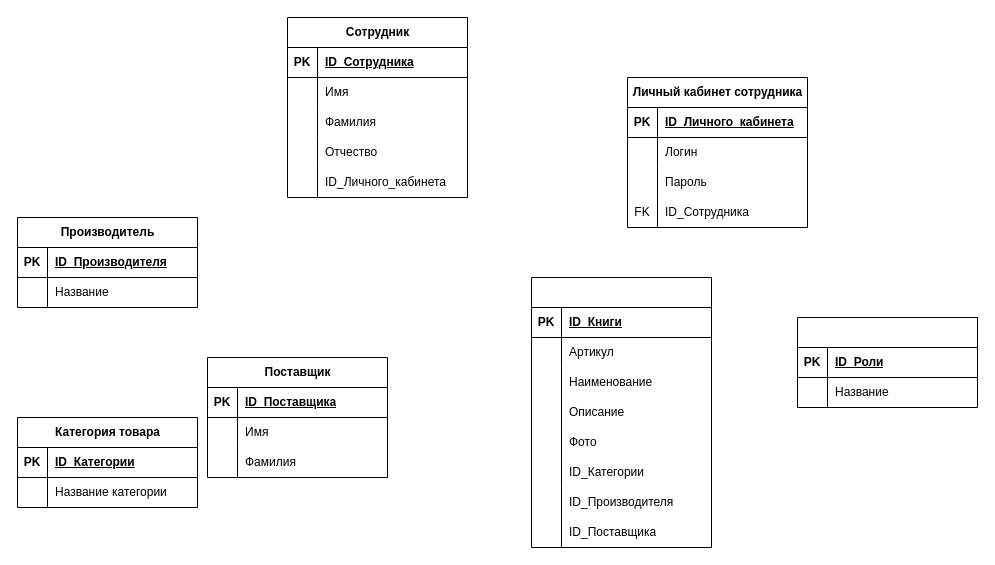
This 995x565 diagram has some shape labels left out. The box of each missing label's shape, as (x1, y1, x2, y2) in pixels:
Роль сотрудника: (796, 316, 978, 408)
Товар: (530, 276, 712, 548)
